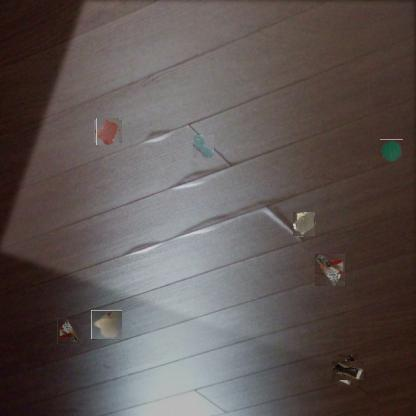dirty: (315, 254, 345, 286), (92, 310, 121, 339), (335, 357, 361, 383), (57, 318, 79, 344), (380, 139, 403, 162), (293, 212, 315, 236)
liquid: (95, 119, 121, 144), (192, 134, 214, 158)
